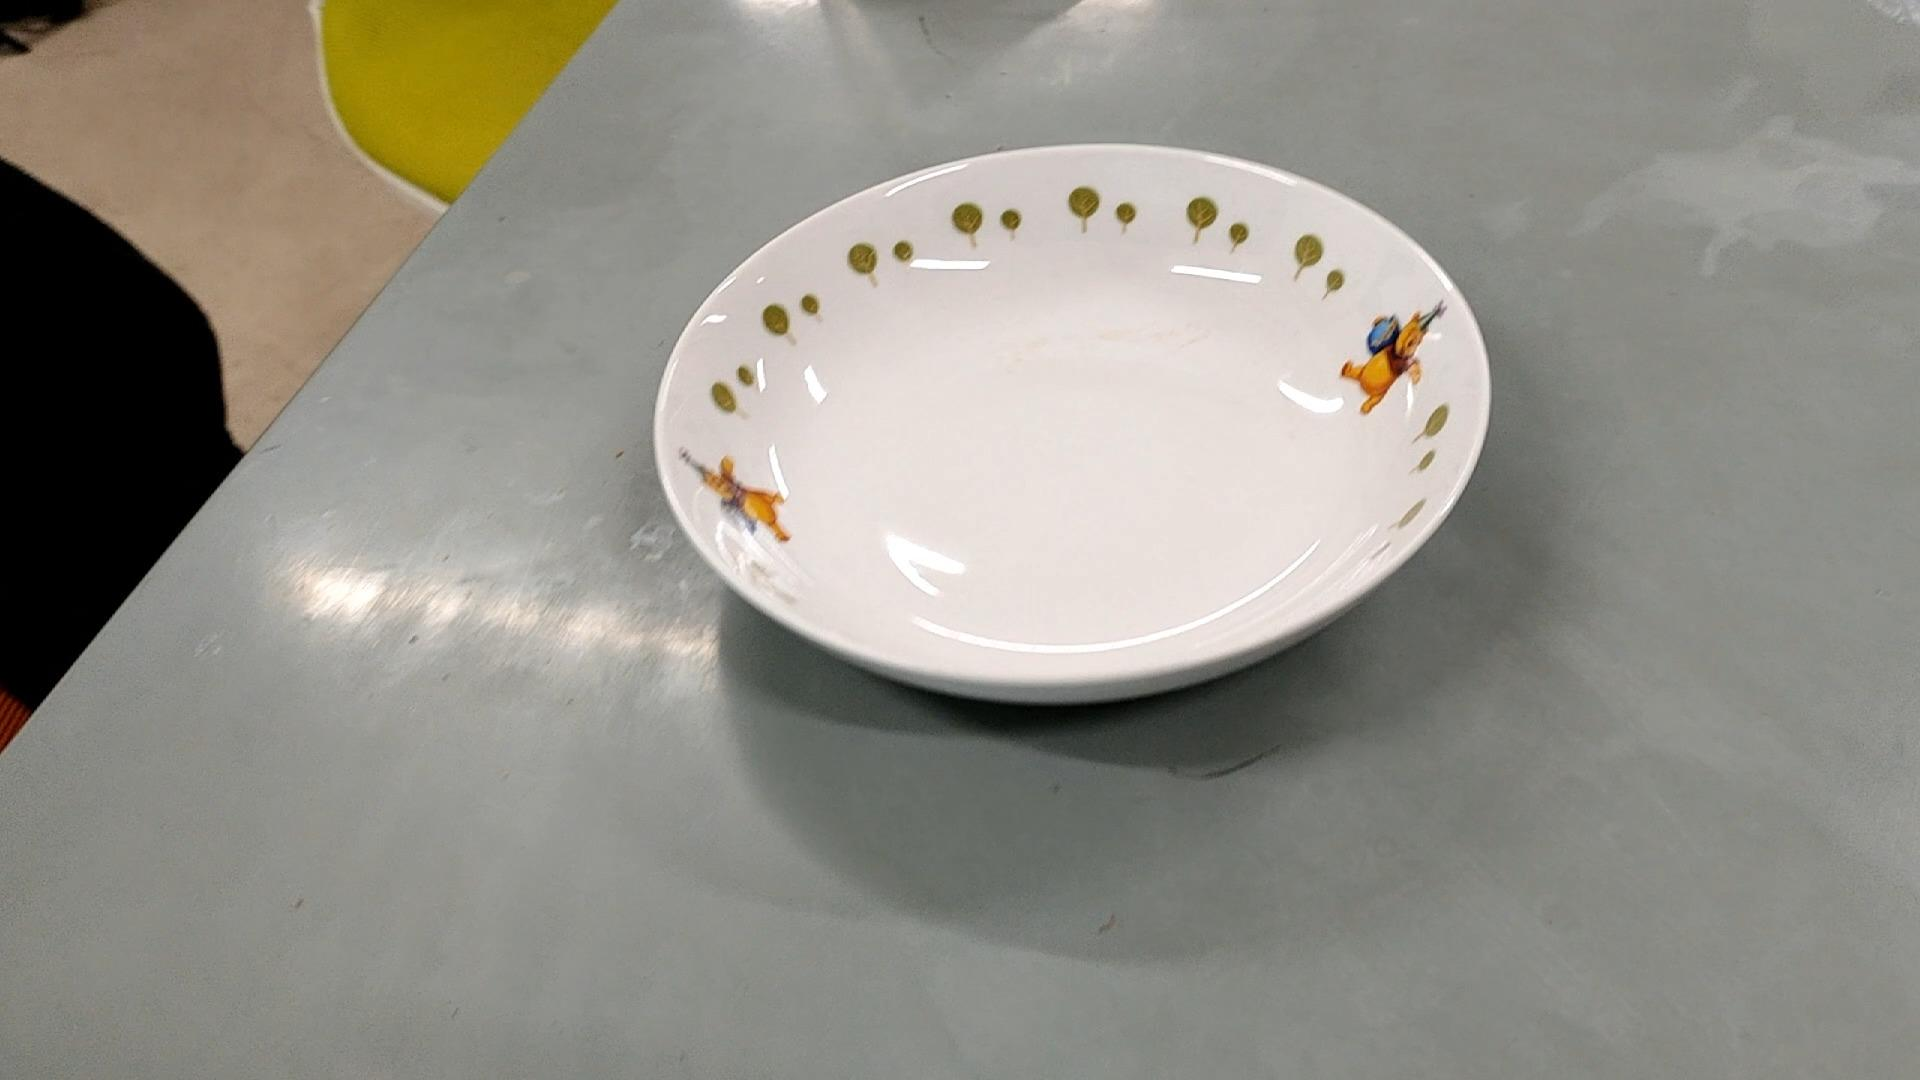plate: (656, 146, 1495, 702)
